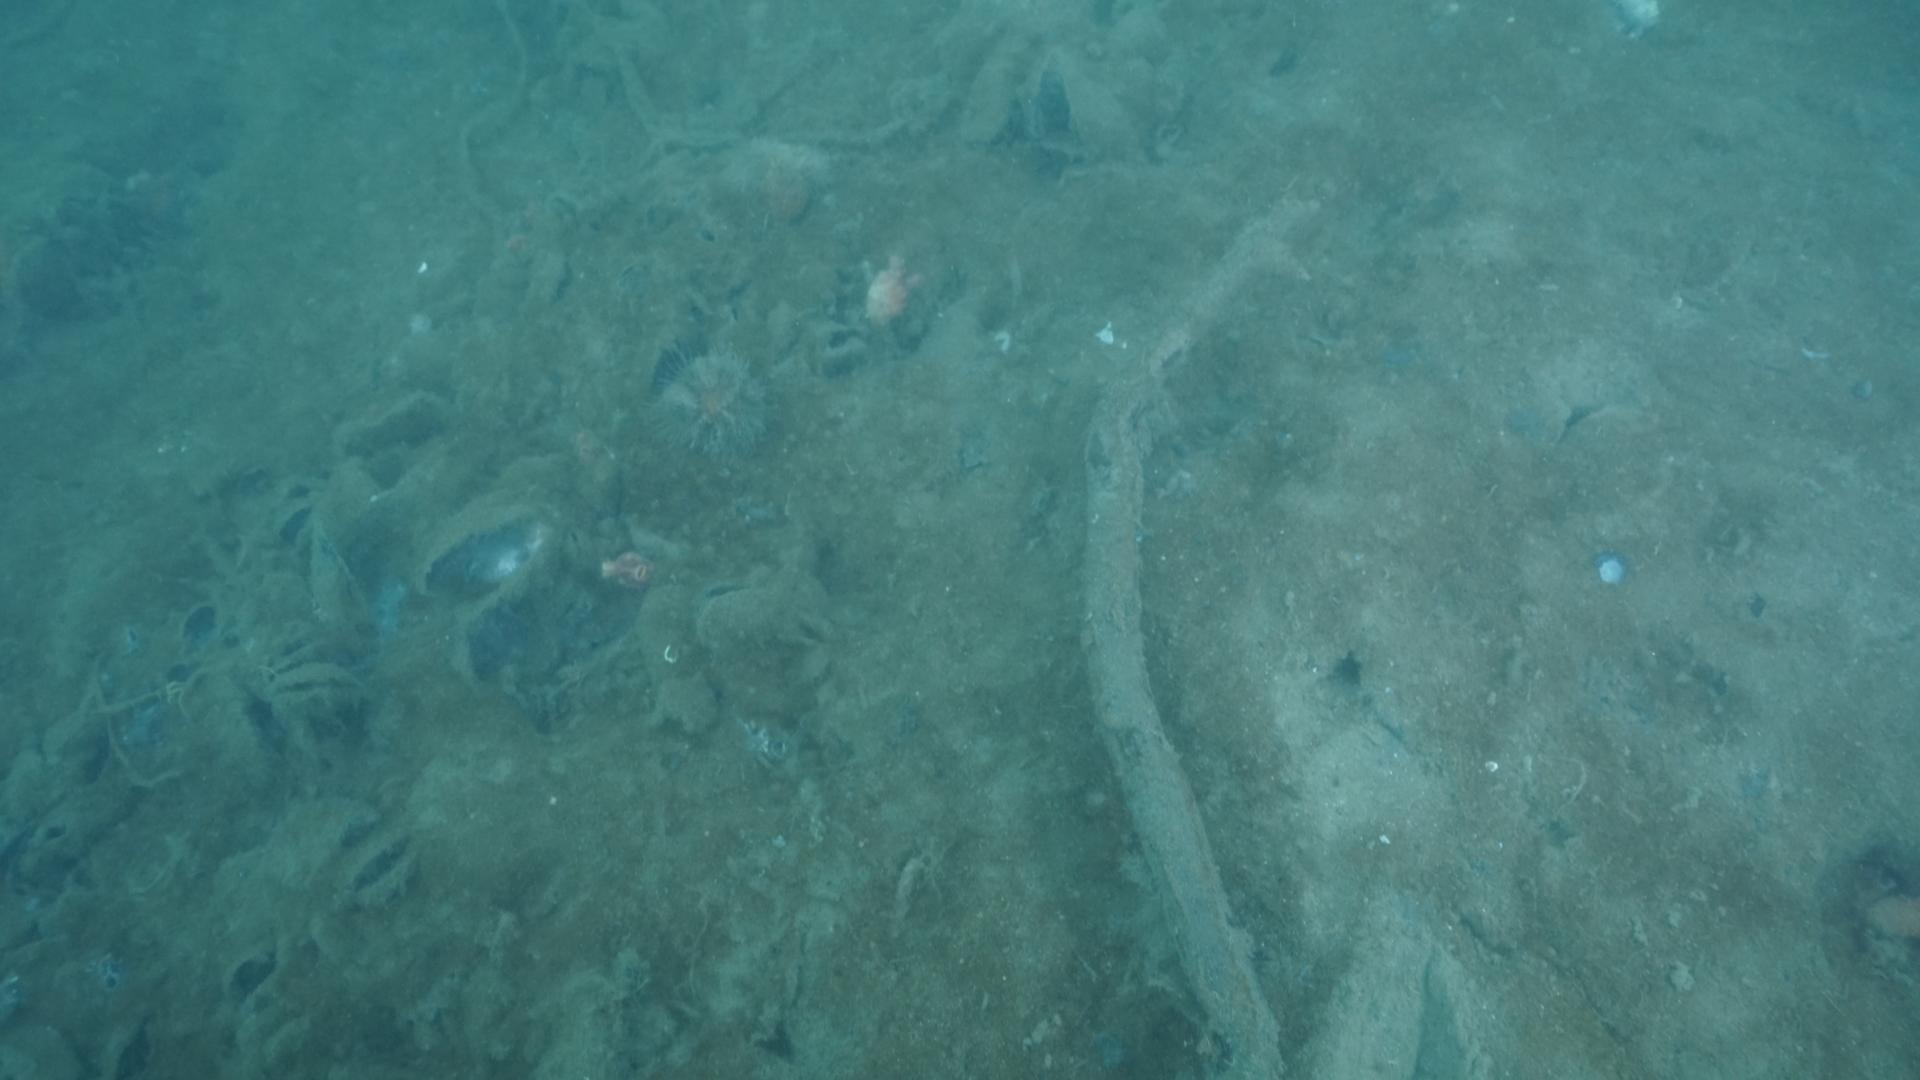wood: (1076, 175, 1319, 1080)
